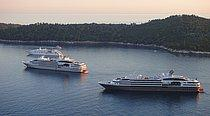Ship: (97, 69, 207, 97), (22, 56, 93, 77), (26, 46, 66, 59)
